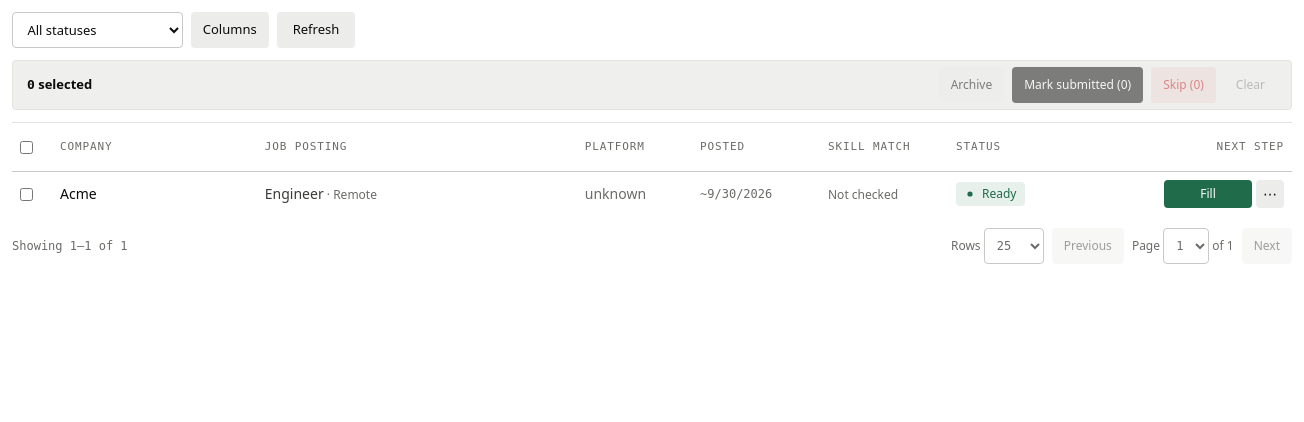
Test: ApplicationsTable actions › offers Mark submitted and Skip on a ready row (audit #2)
Step 1. Click the button named "More actions for Acme Engineer" → (1270, 194), box [1256,180,1284,208]
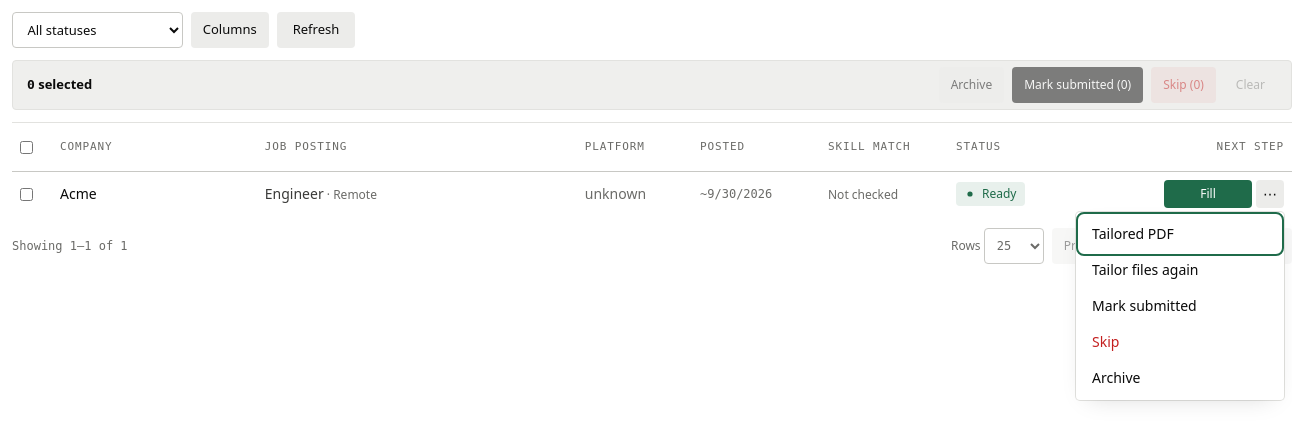
expect the menu item "Mark submitted" is shown: met, box [1080,288,1280,324]
expect the menu item "Skip" is shown: met, box [1080,324,1280,360]
